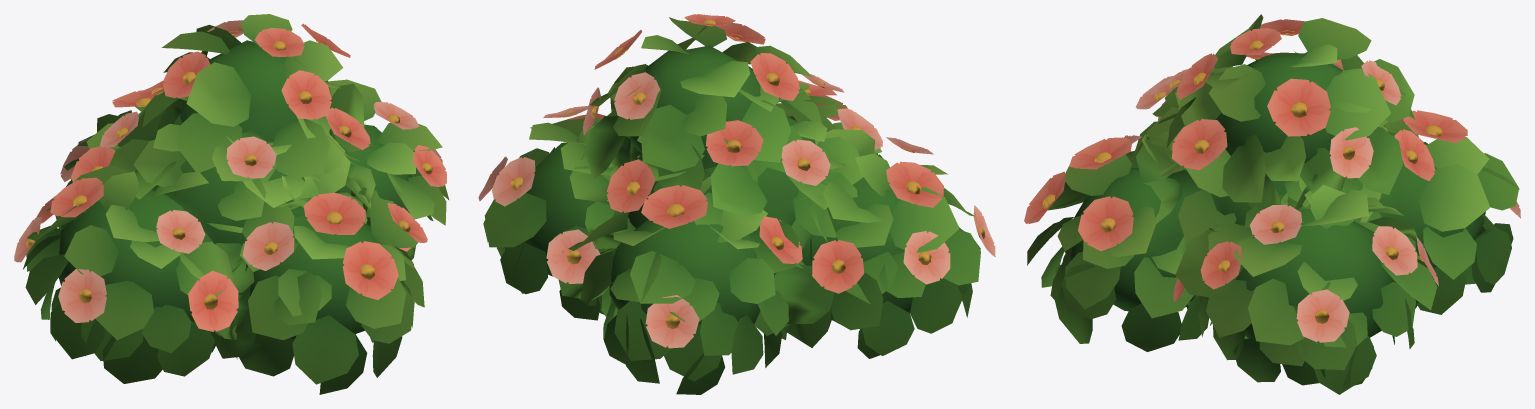
Rendered from bush_flower_a.glb.
3 renders of one model, left to right at view 1: azimuth 30°, elevation 25°; view 2: azimuth 150°, elevation 25°; view 3: azimuth 270°, elevation 25°, orthographic. The views are drawn at different scales.
Visible parts, largest first — view 1: bush_flower_a; view 2: bush_flower_a; view 3: bush_flower_a.
Part boxes in pixels (bbox=[...]): bush_flower_a: bbox=[14, 14, 449, 394]; bush_flower_a: bbox=[478, 14, 995, 394]; bush_flower_a: bbox=[1024, 14, 1520, 394].
Size of the model in its own units: 1.65 by 1.04 by 1.53.
